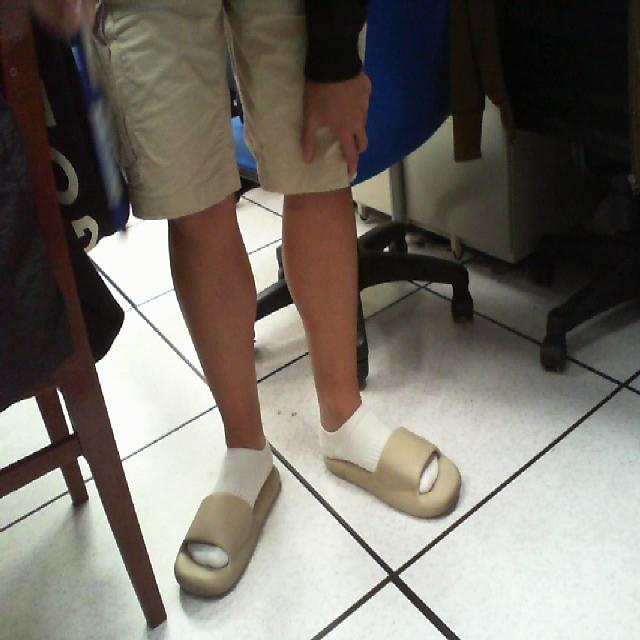Pen: (60, 0, 134, 253)
